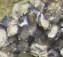3: (36, 11, 52, 29), (49, 23, 60, 41)
Oyster-Open: (0, 0, 19, 24), (45, 0, 63, 23), (27, 10, 39, 33), (30, 44, 49, 55), (7, 20, 18, 36), (29, 0, 45, 11), (0, 24, 7, 49), (17, 4, 30, 17), (18, 27, 29, 40)
